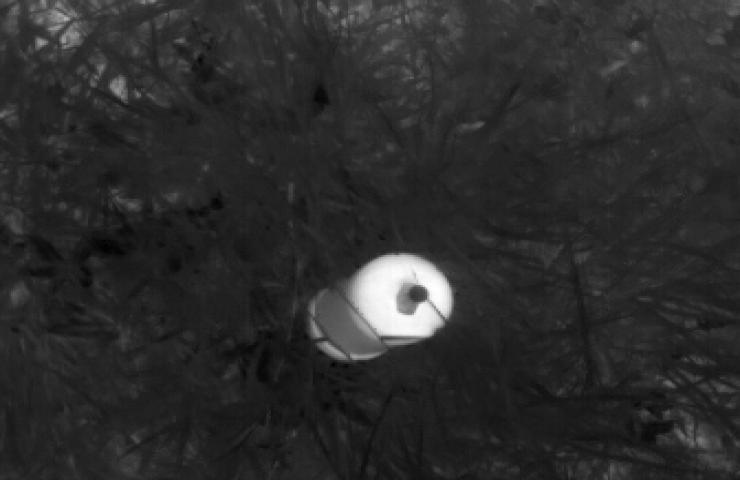landmines: (302, 248, 459, 370)
